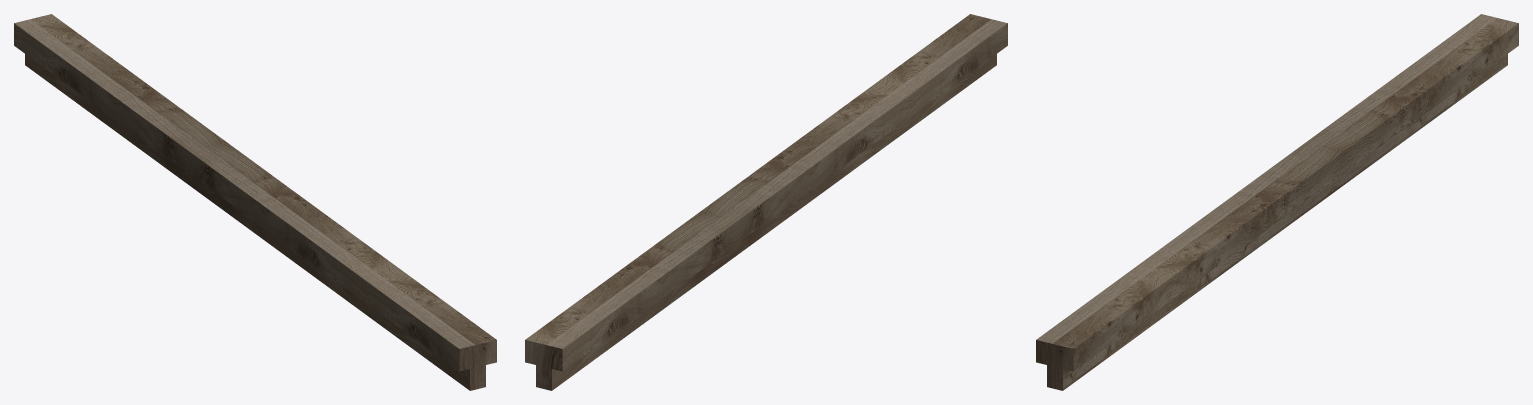
The model's file is SM_Sun_Toilet_Bang_B.fbx.
3 renders of one model, left to right at view 1: azimuth 30°, elevation 25°; view 2: azimuth 150°, elevation 25°; view 3: azimuth 330°, elevation 25°, orthographic.
Parts seen in each view (by area): view 1: SM_Sun_Toilet_Bang_B; view 2: SM_Sun_Toilet_Bang_B; view 3: SM_Sun_Toilet_Bang_B.
Boxes of the visible parts, x1,y1,x2,y2 form: SM_Sun_Toilet_Bang_B: (14, 14, 496, 390); SM_Sun_Toilet_Bang_B: (525, 14, 1007, 390); SM_Sun_Toilet_Bang_B: (1036, 14, 1518, 390).
Size of the model in its own units: 30.83 by 34.9 by 632.
